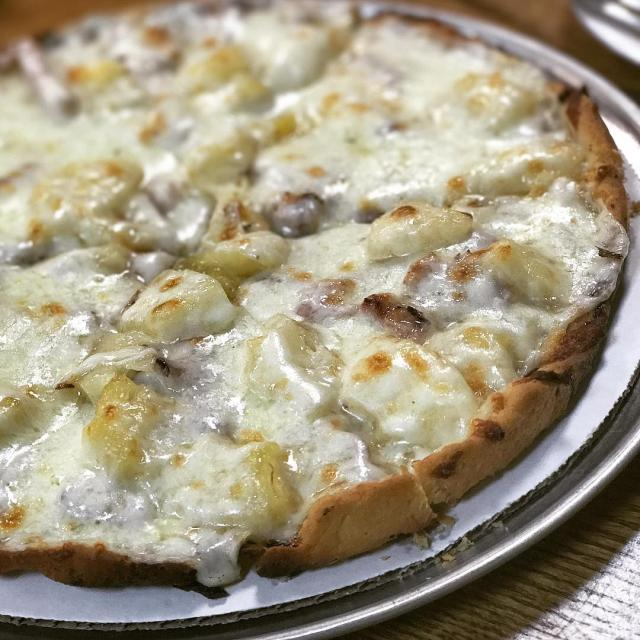pizza: (0, 0, 630, 597)
